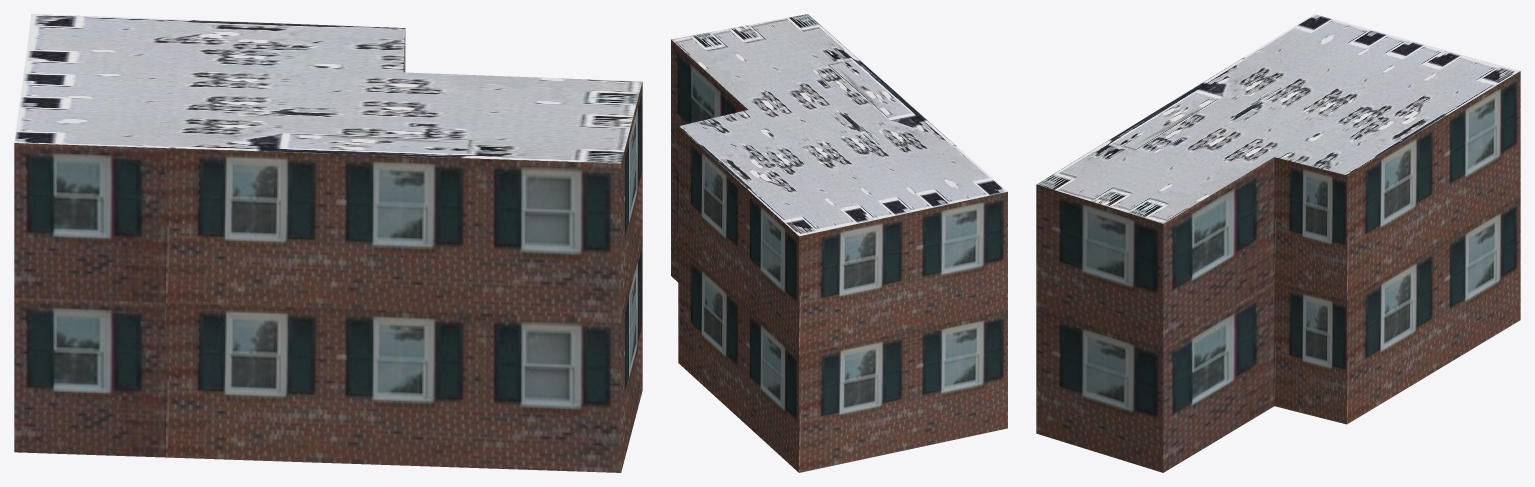
Rendered from ResTex__1838.fbx.
3 views of the same model, side by side, from view 1: azimuth 30°, elevation 25°; view 2: azimuth 150°, elevation 25°; view 3: azimuth 270°, elevation 25° (orthographic). The views are drawn at different scales.
Visible parts, largest first — view 1: CityEngineMaterial_14_m, CityEngineMaterial_8_m; view 2: CityEngineMaterial_14_m, CityEngineMaterial_8_m; view 3: CityEngineMaterial_14_m, CityEngineMaterial_8_m.
Part boxes in pixels (x1=…): CityEngineMaterial_14_m: x1=14, y1=28, x2=642, y2=472; CityEngineMaterial_8_m: x1=14, y1=14, x2=642, y2=163; CityEngineMaterial_14_m: x1=671, y1=39, x2=1007, y2=472; CityEngineMaterial_8_m: x1=671, y1=14, x2=1007, y2=236; CityEngineMaterial_14_m: x1=1036, y1=71, x2=1520, y2=472; CityEngineMaterial_8_m: x1=1036, y1=14, x2=1519, y2=223.
Bounding box in the file's own units: 10.84 × 6 × 10.57.
Materials: 2 (2 with a texture image).
